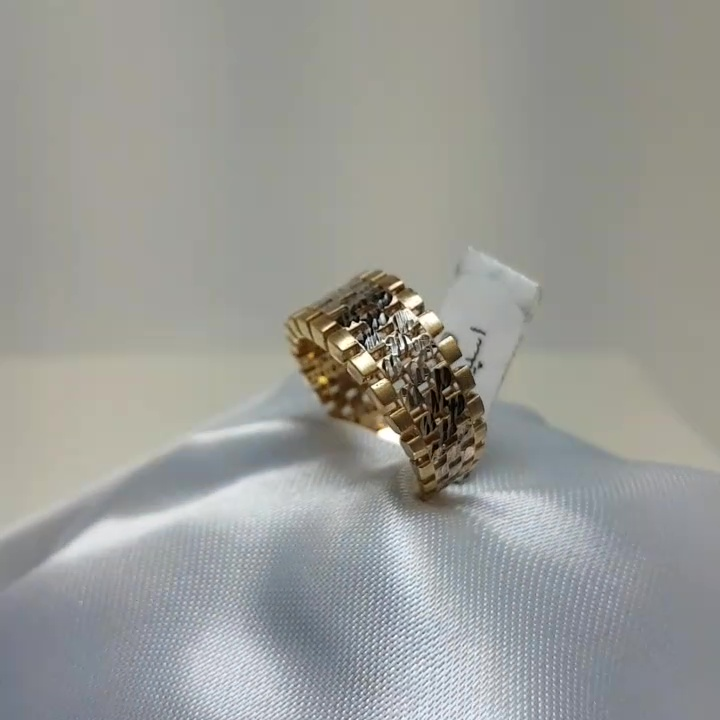Ring 1: (254, 251, 498, 505)
